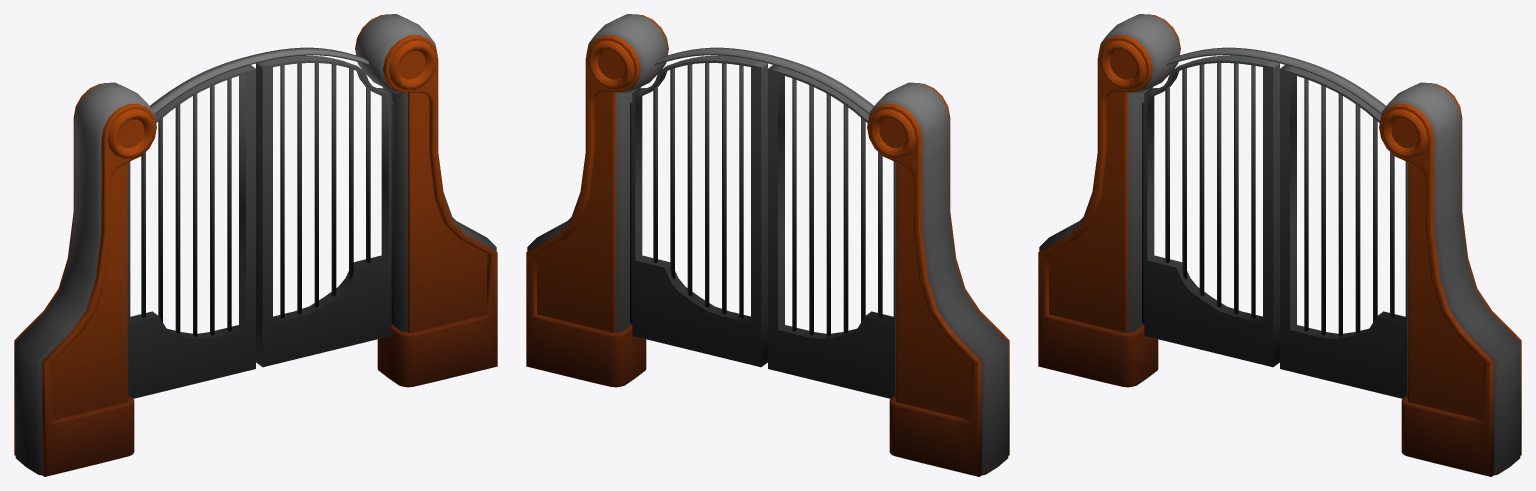
Rendered from BackGate.fbx.
3 views of the same model, side by side, from view 1: azimuth 30°, elevation 25°; view 2: azimuth 150°, elevation 25°; view 3: azimuth 330°, elevation 25° (orthographic).
Parts seen in each view (by area): view 1: BackGate, RightDoor, LeftDoor; view 2: BackGate, RightDoor, LeftDoor; view 3: BackGate, LeftDoor, RightDoor.
Boxes of the visible parts, x1,y1,x2,y2 form: BackGate: [14, 14, 497, 476]; RightDoor: [256, 55, 393, 367]; LeftDoor: [129, 65, 255, 398]; BackGate: [526, 14, 1009, 476]; RightDoor: [630, 55, 767, 367]; LeftDoor: [768, 65, 894, 398]; BackGate: [1038, 14, 1521, 476]; LeftDoor: [1142, 55, 1279, 367]; RightDoor: [1280, 65, 1406, 398].
Bounding box in the file's own units: 362 × 266 × 50.44.
